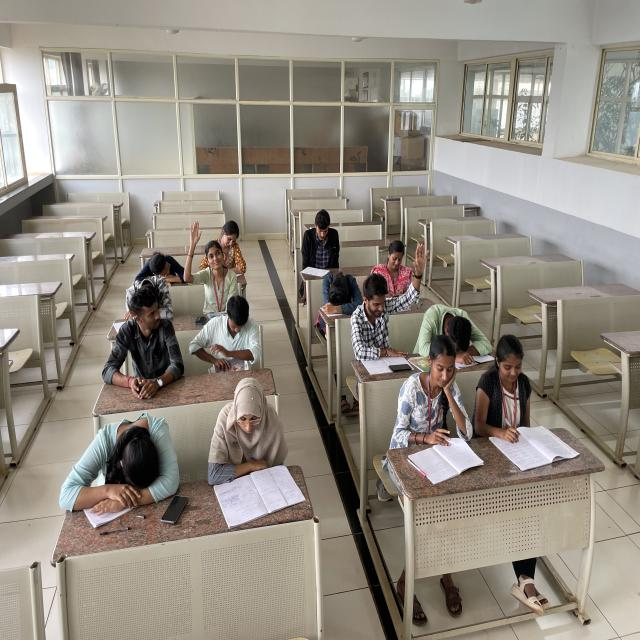Reading: (203, 374, 304, 520), (398, 332, 477, 480), (294, 207, 346, 289)
Sleeping: (53, 414, 191, 526), (419, 300, 493, 359), (311, 262, 367, 331), (135, 248, 191, 288)
Using Phone: (375, 238, 416, 314)
Writing: (472, 331, 543, 454)
